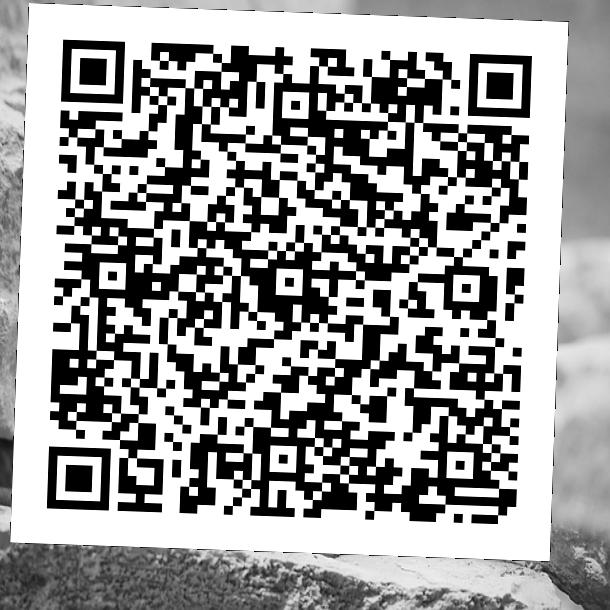qr_code: (10, 3, 568, 561)
